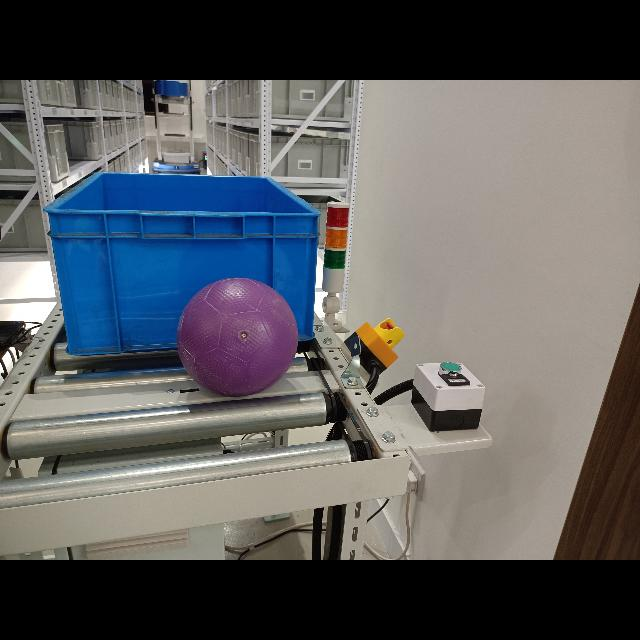P: (178, 278, 298, 397)
